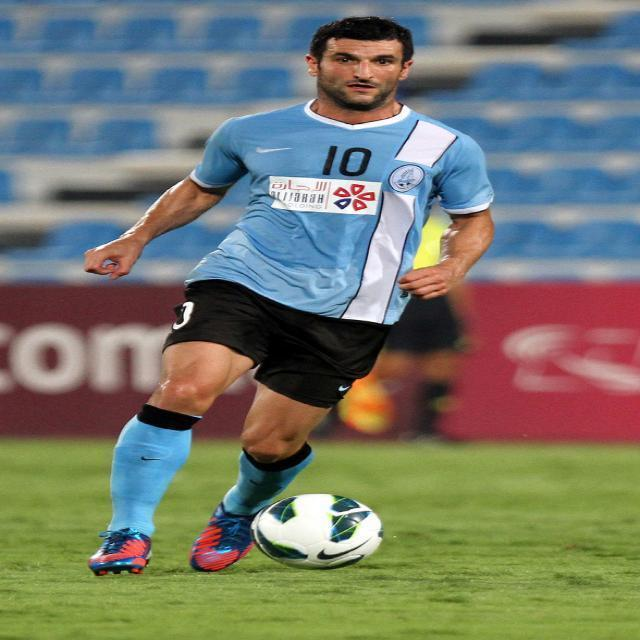ball: (246, 490, 389, 568)
